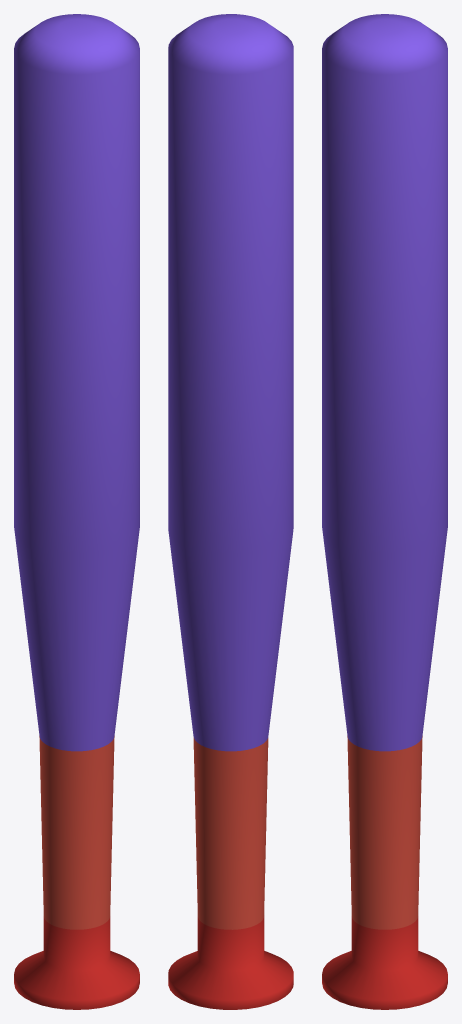
Rendered from basebat.fbx.
3 views of the same model, side by side, from view 1: azimuth 90°, elevation 25°; view 2: azimuth 150°, elevation 25°; view 3: azimuth 270°, elevation 25° (orthographic).
Visible parts, largest first — view 1: Cylinder; view 2: Cylinder; view 3: Cylinder.
Part boxes in pixels (x1,y1,x2,y2): Cylinder: (14,14,139,1009); Cylinder: (168,14,293,1009); Cylinder: (322,14,447,1009).
Bounding box in the file's own units: 70.4 × 590 × 70.4.
